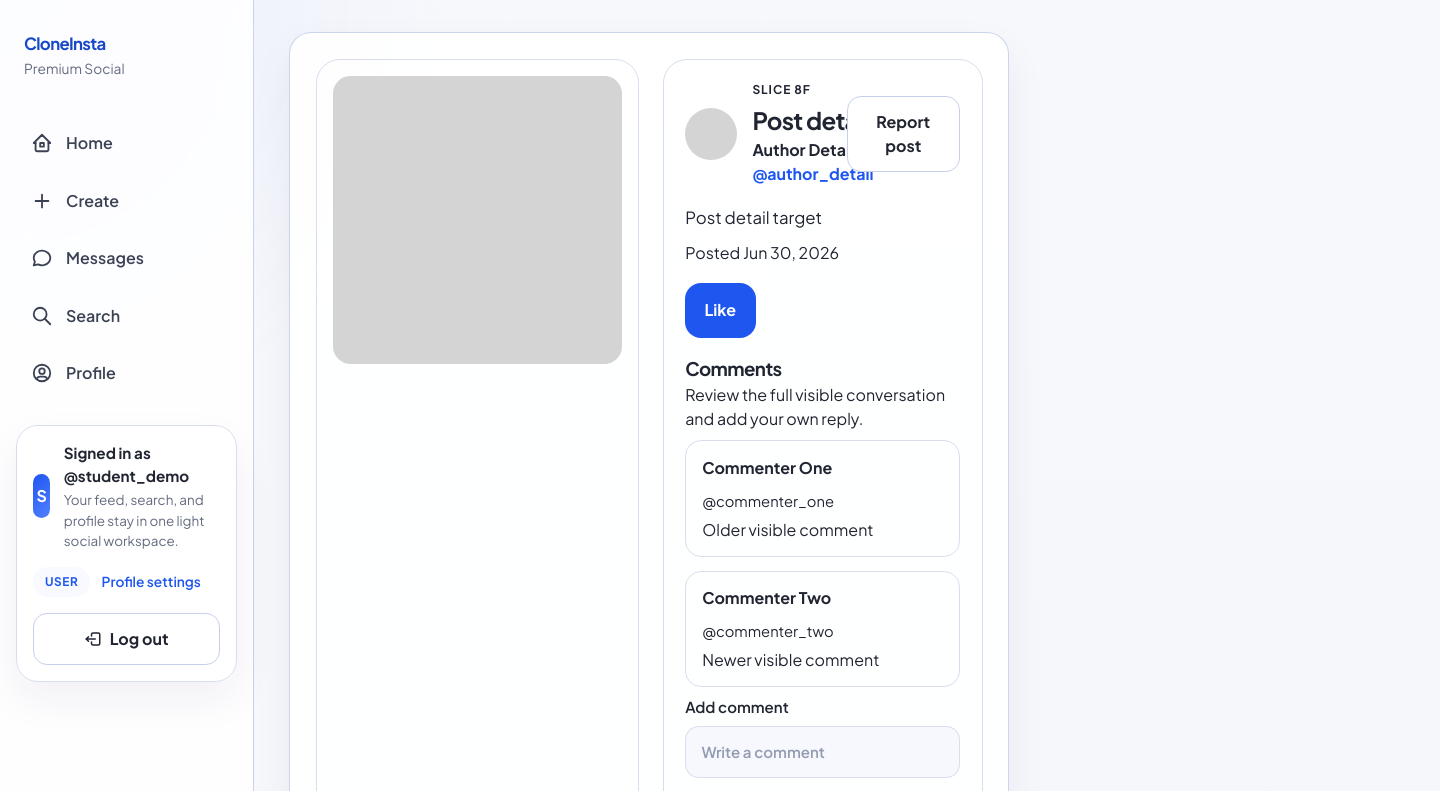
Test: Post detail UI › opens the report modal and submits a post report through the live API contract
Click the button "Report post" at (903, 134), box [846, 96, 960, 172]
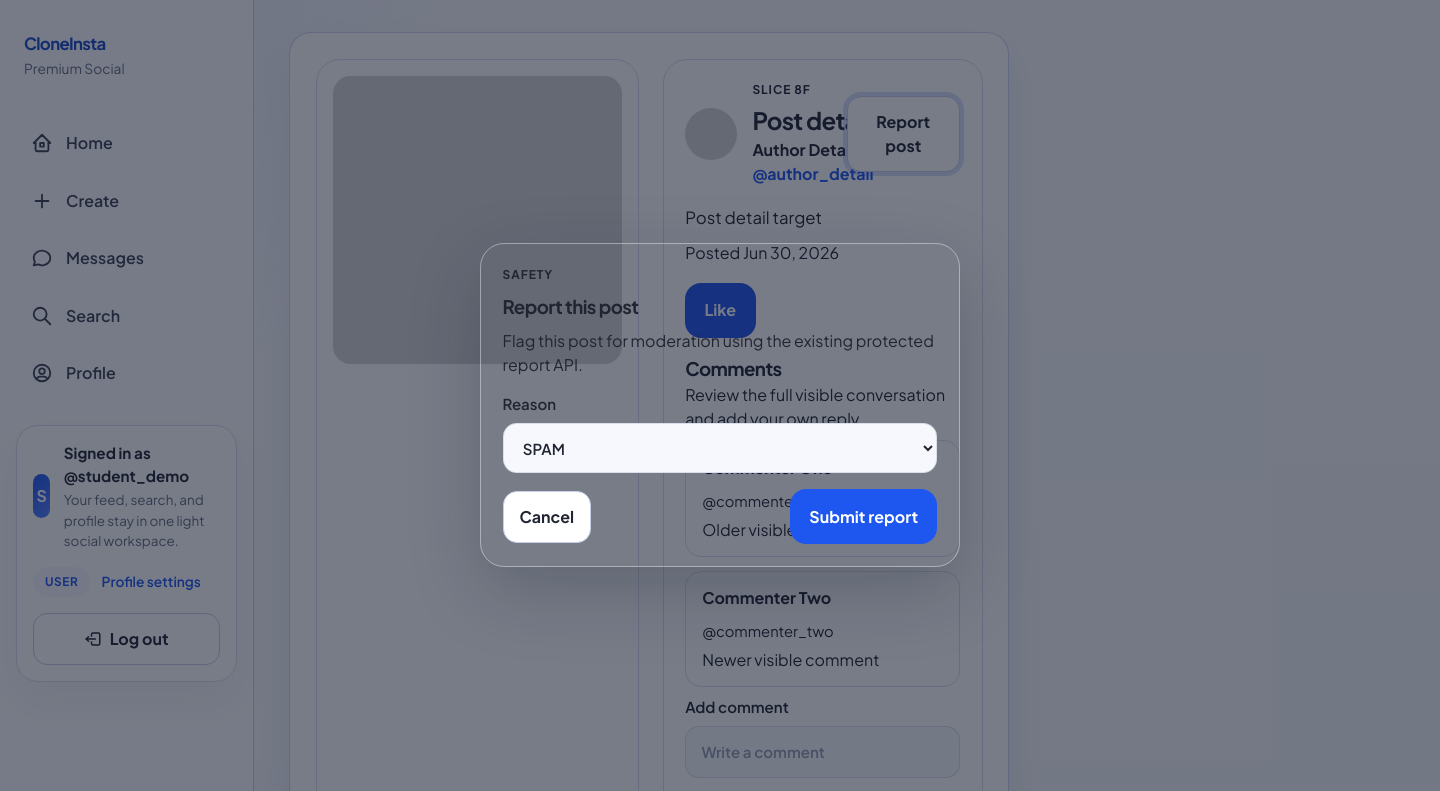
Select "SPAM" in the dropdown labelled "Reason" at (720, 448), box [503, 423, 937, 473]
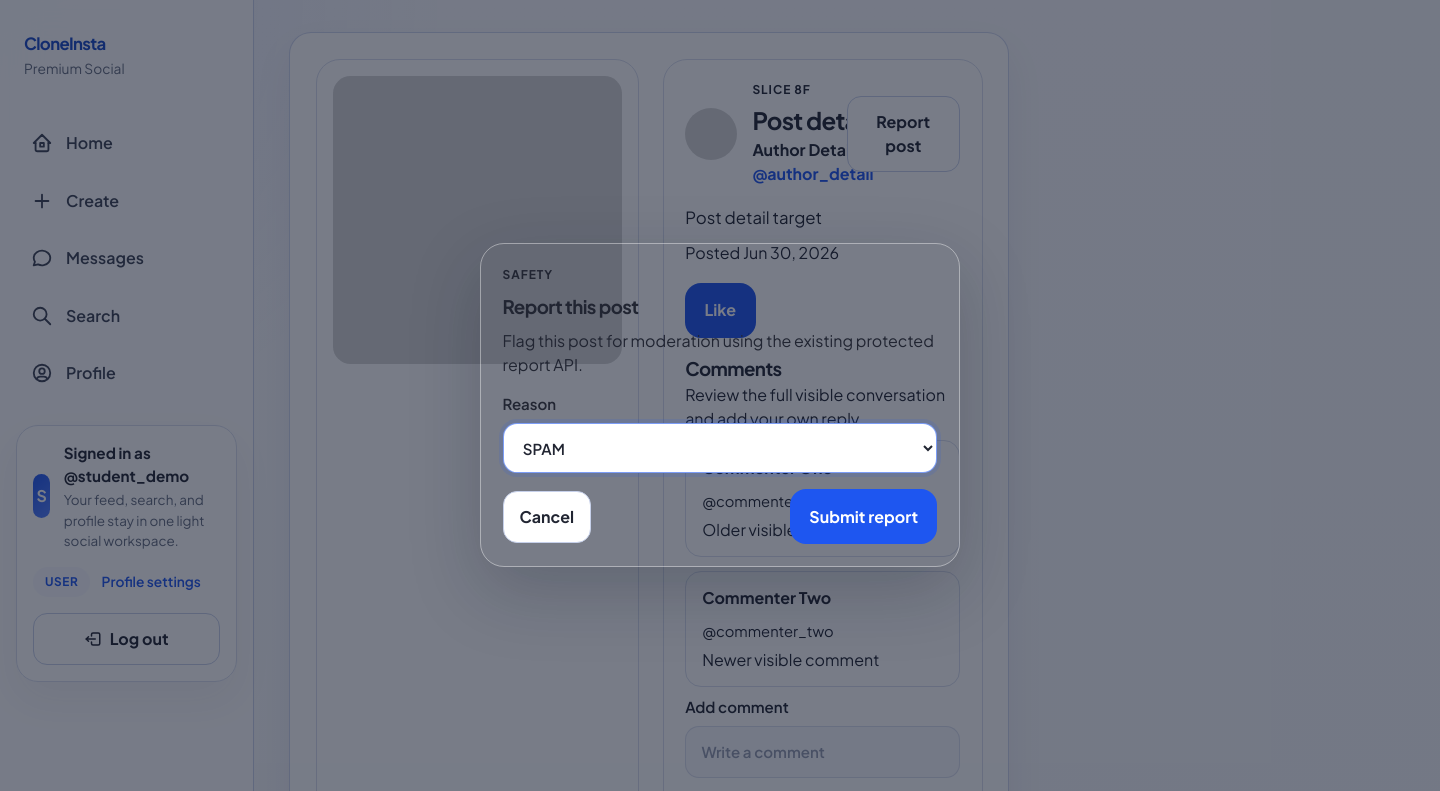
Click the button "Submit report" at (864, 517), box [790, 489, 937, 544]
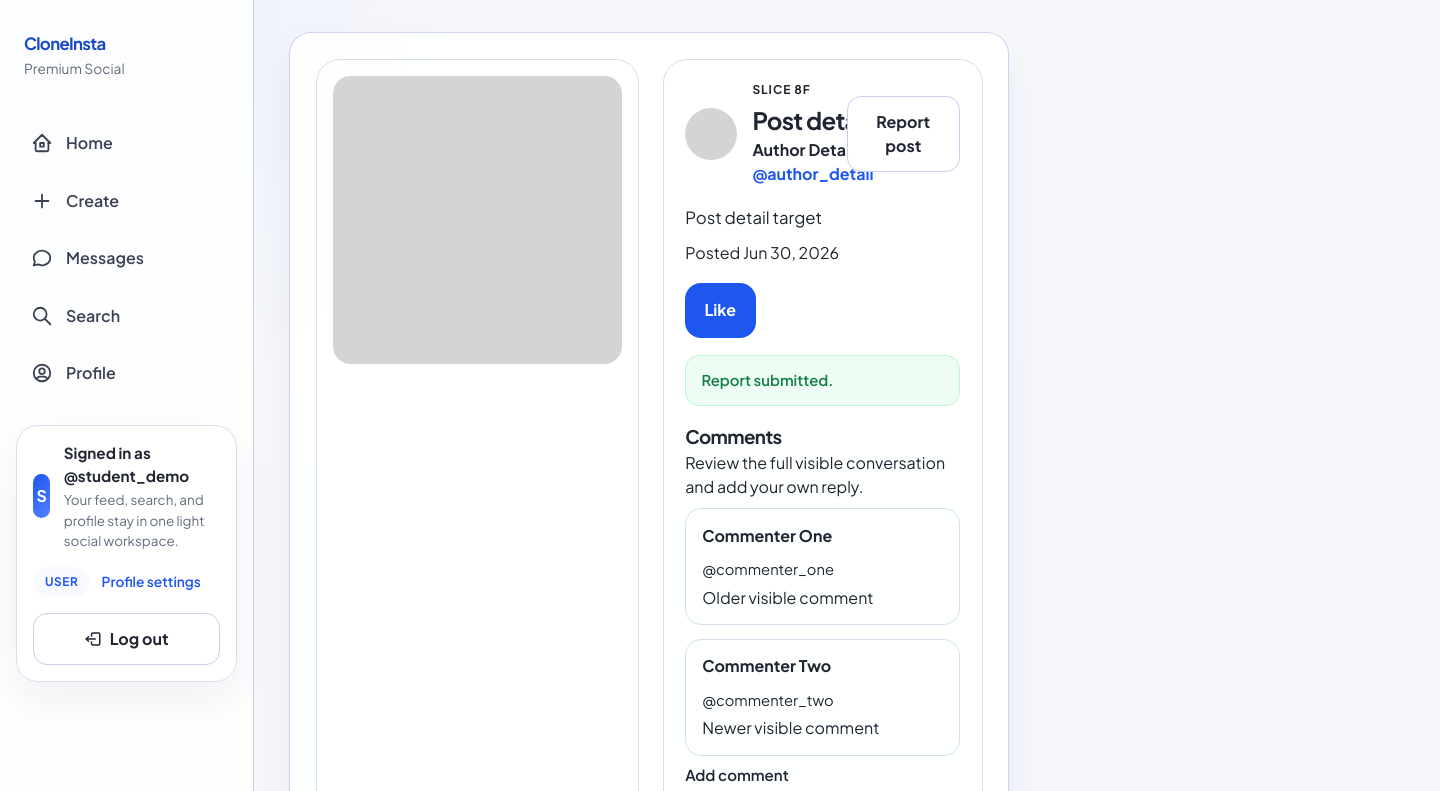
Result: the text "Report submitted." is shown at [685, 355, 960, 406]
Result: the heading "Report this post" is gone
